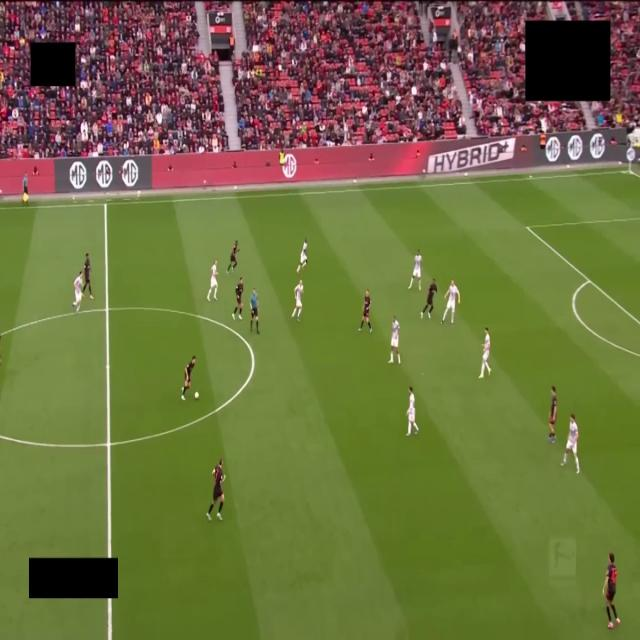ball: (194, 392, 198, 399)
player: (603, 553, 619, 629), (207, 459, 225, 520), (562, 414, 579, 473), (441, 280, 459, 325), (421, 279, 437, 319), (181, 356, 195, 400), (359, 289, 372, 332), (479, 328, 490, 378), (389, 315, 400, 364), (407, 387, 418, 436), (548, 386, 557, 443), (409, 251, 422, 290), (83, 254, 93, 300), (232, 278, 243, 319), (72, 271, 83, 312), (292, 280, 303, 320), (207, 260, 217, 301), (227, 240, 238, 274), (297, 239, 307, 273)
referee: (250, 288, 259, 334)
